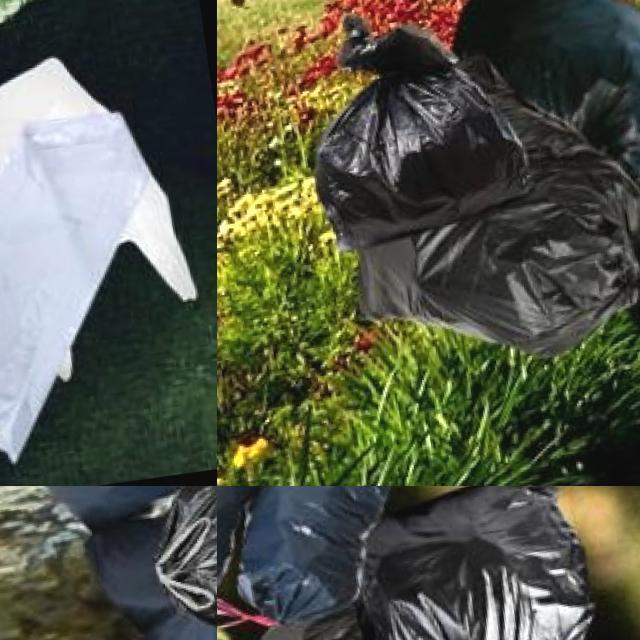waste: (328, 44, 640, 382), (0, 42, 214, 383), (310, 12, 538, 249), (359, 486, 615, 640), (244, 486, 387, 616), (144, 486, 217, 640), (240, 596, 482, 640), (0, 486, 217, 528)
